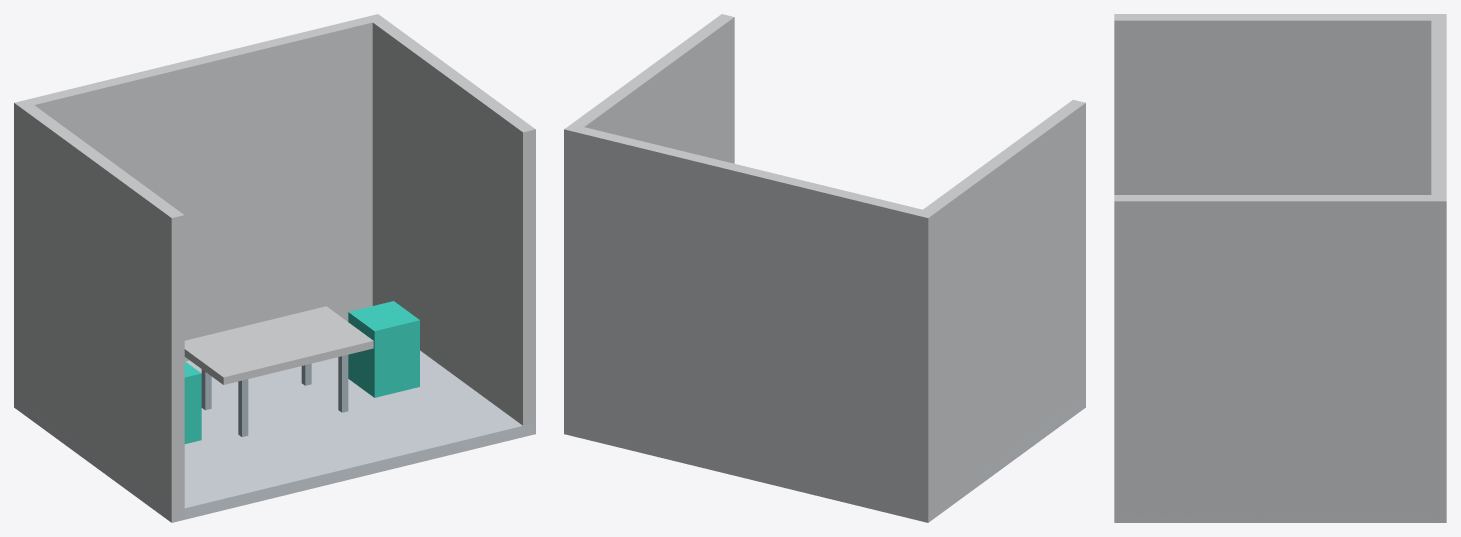
3 views of the same model, side by side, from view 1: azimuth 30°, elevation 25°; view 2: azimuth 150°, elevation 25°; view 3: azimuth 270°, elevation 25° (orthographic). The views are drawn at different scales.
Visible parts, largest first — view 1: Exhibition Booth Concept; view 2: Exhibition Booth Concept; view 3: Exhibition Booth Concept.
Part boxes in pixels (x1=…): Exhibition Booth Concept: x1=14, y1=14, x2=535, y2=522; Exhibition Booth Concept: x1=564, y1=14, x2=1085, y2=522; Exhibition Booth Concept: x1=1114, y1=14, x2=1446, y2=522.
Bounding box in the file's own units: 4 × 3.2 × 3.
